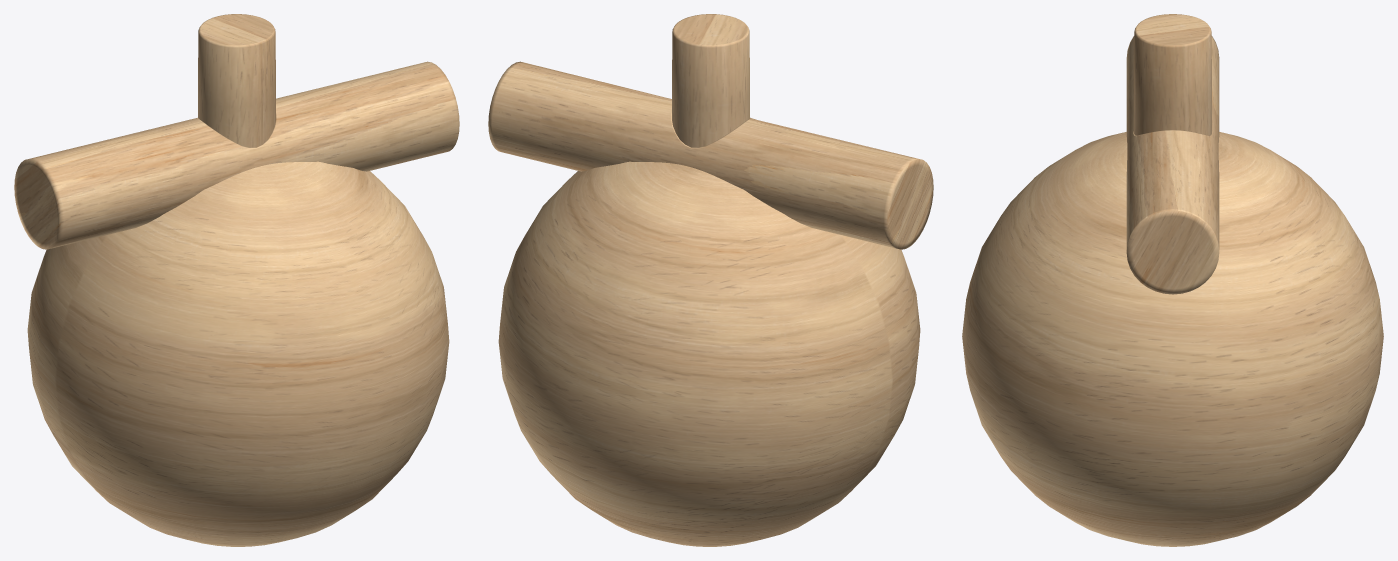
The model's file is BF_hangeul2.glb.
3 renders of one model, left to right at view 1: azimuth 30°, elevation 25°; view 2: azimuth 150°, elevation 25°; view 3: azimuth 270°, elevation 25°, orthographic.
Visible parts, largest first — view 1: BF_hangeul2.model; view 2: BF_hangeul2.model; view 3: BF_hangeul2.model.
Boxes of the visible parts, <box> form: BF_hangeul2.model: <box>14,14,459,546</box>; BF_hangeul2.model: <box>488,14,933,546</box>; BF_hangeul2.model: <box>962,14,1383,546</box>.
Size of the model in its own units: 0.0889 by 0.106 by 0.0816.
1 material, 1 textured.
